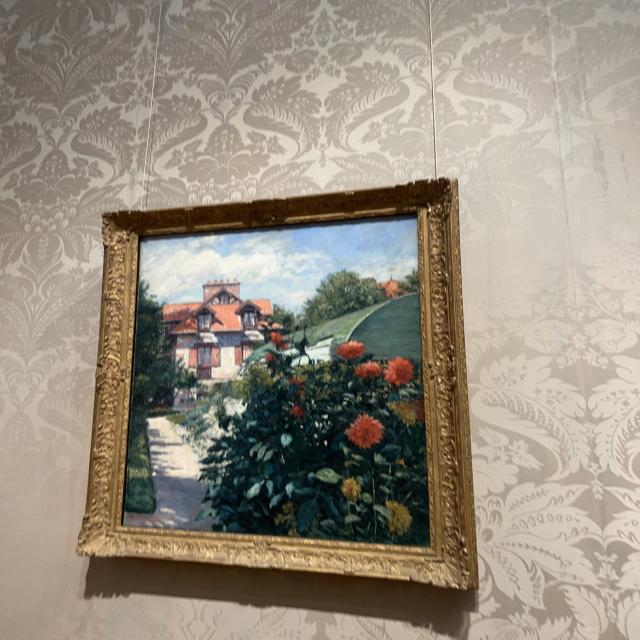summer: (125, 219, 429, 544)
